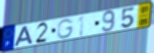1: (78, 16, 85, 36)
2: (36, 22, 50, 45)
5: (121, 6, 136, 30)
9: (100, 9, 116, 34)
A: (14, 24, 35, 47)
G: (56, 18, 75, 40)
